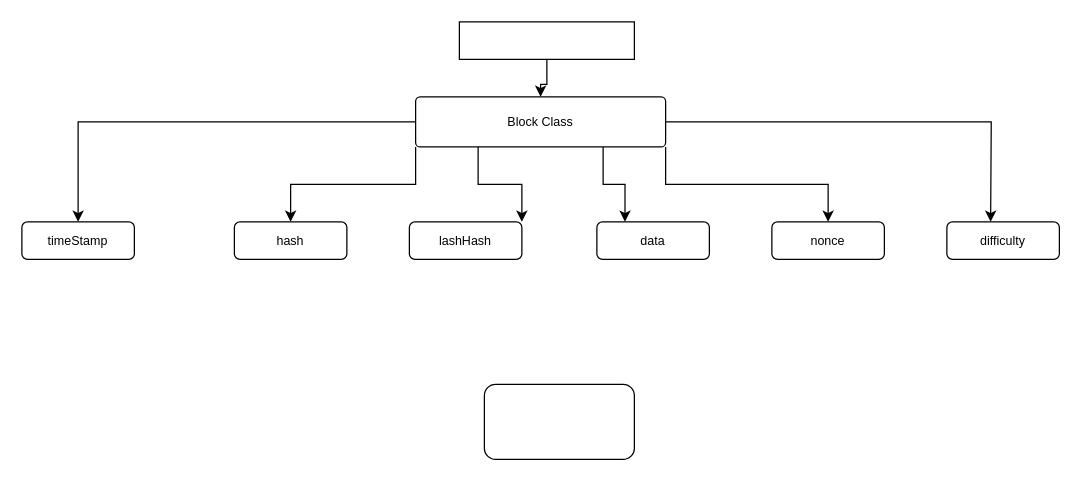
Image size: 1081x481. Some labels were removed from this diagram. The box of each missing label's shape, as (x1, y1, x2, y2) in pixels:
ARTH: (458, 21, 634, 59)
Genesis Block: (483, 383, 634, 459)
